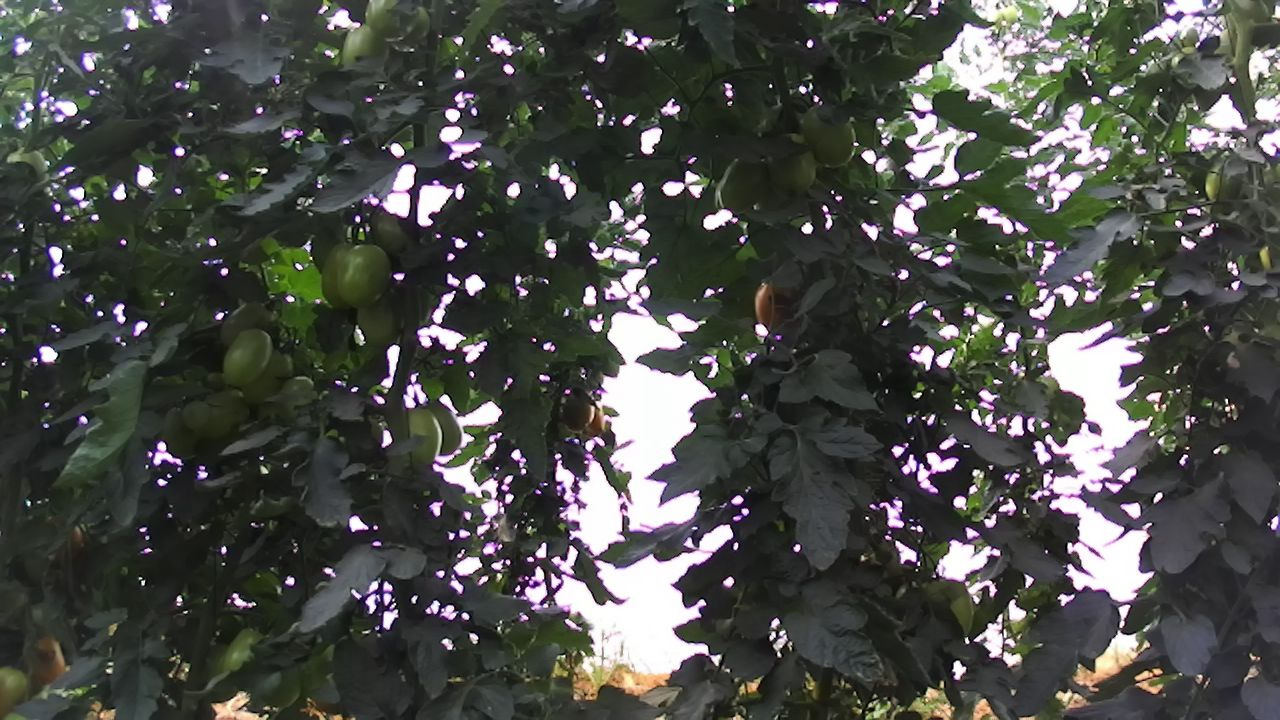tomato: (796, 96, 859, 170), (331, 240, 392, 311), (217, 321, 277, 388), (397, 403, 444, 469)
